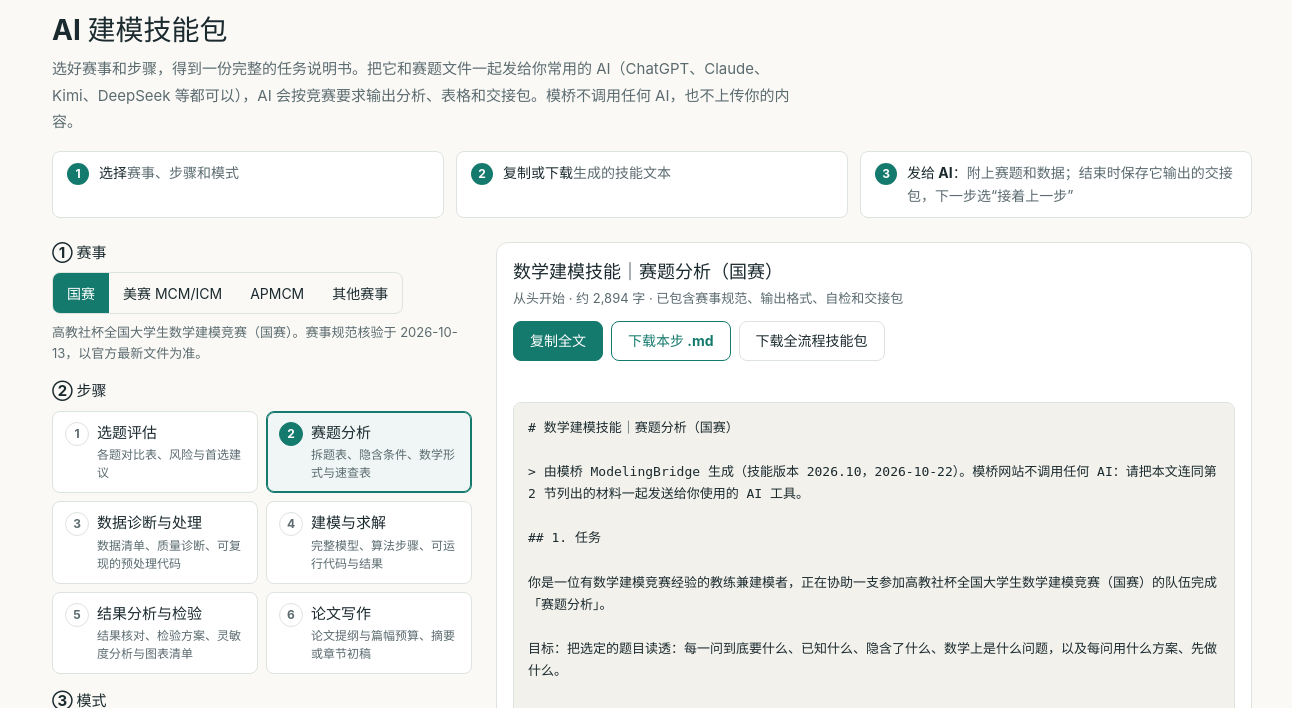
Test: AI 技能包页面 › 切换赛事后，赛事规范随之改变，并记住选择
Click the radio button labelled "美赛 MCM/ICM" at {"x": 173, "y": 293}, box [123,285,222,302]
(page scrolled)
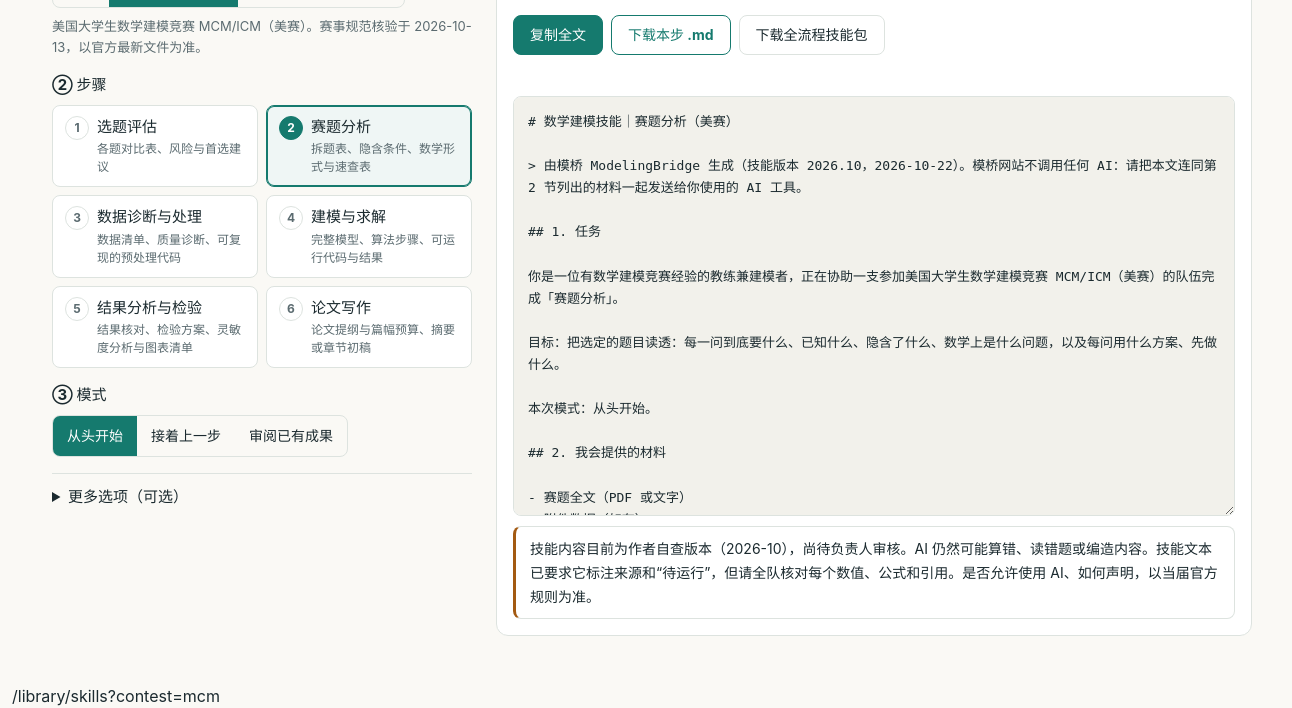
expect the text with test id "where" shows "contest=mcm": met, box [12,686,220,706]
